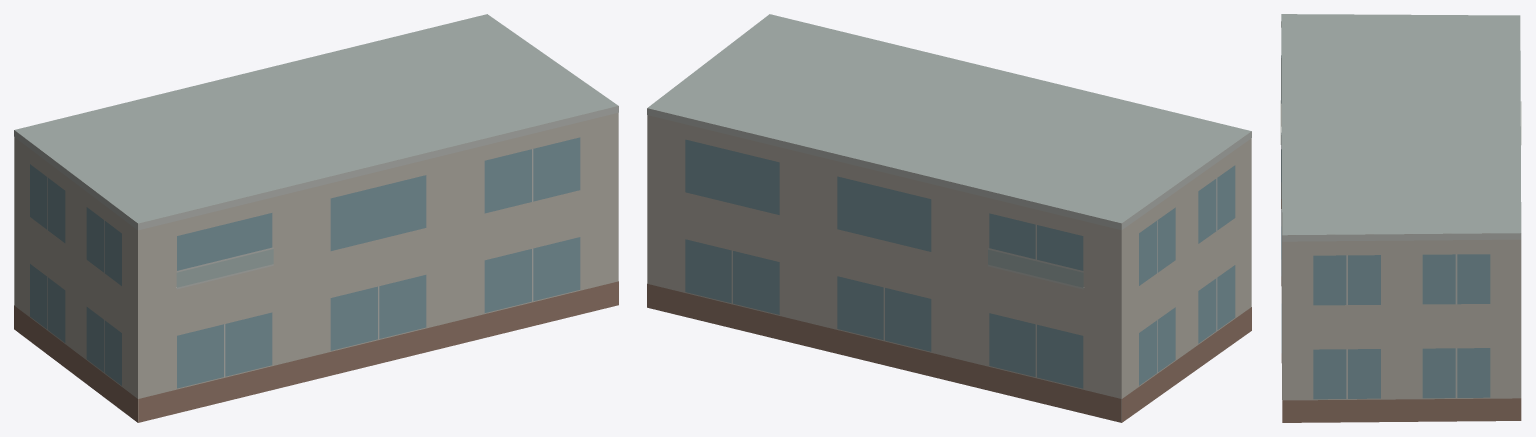
Rendered from survey-upis-33035839.glb.
3 views of the same model, side by side, from view 1: azimuth 30°, elevation 25°; view 2: azimuth 150°, elevation 25°; view 3: azimuth 270°, elevation 25° (orthographic). The views are drawn at different scales.
Parts seen in each view (by area): view 1: survey-upis-33035839.tmp; view 2: survey-upis-33035839.tmp; view 3: survey-upis-33035839.tmp.
Part boxes in pixels (x1=…): survey-upis-33035839.tmp: x1=14, y1=14, x2=618, y2=422; survey-upis-33035839.tmp: x1=647, y1=14, x2=1251, y2=422; survey-upis-33035839.tmp: x1=1280, y1=14, x2=1521, y2=422.
Size of the model in its own units: 17.95 by 7.1 by 8.28.
